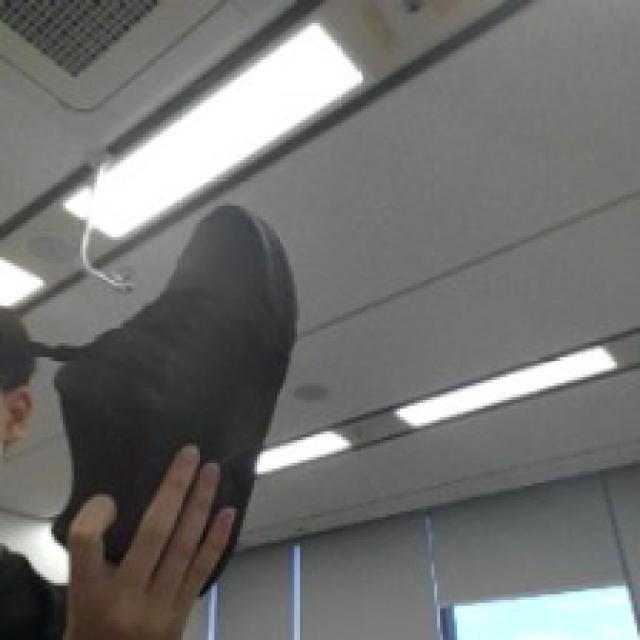shoe: (37, 185, 320, 601)
